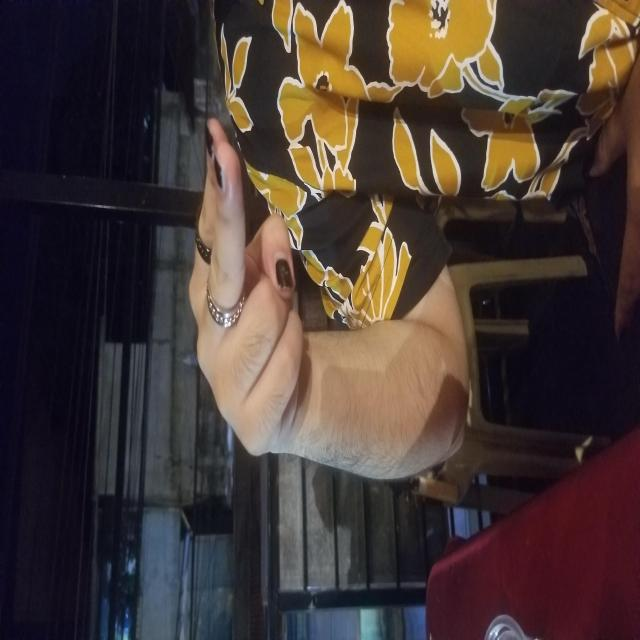N: (180, 184, 526, 305)
